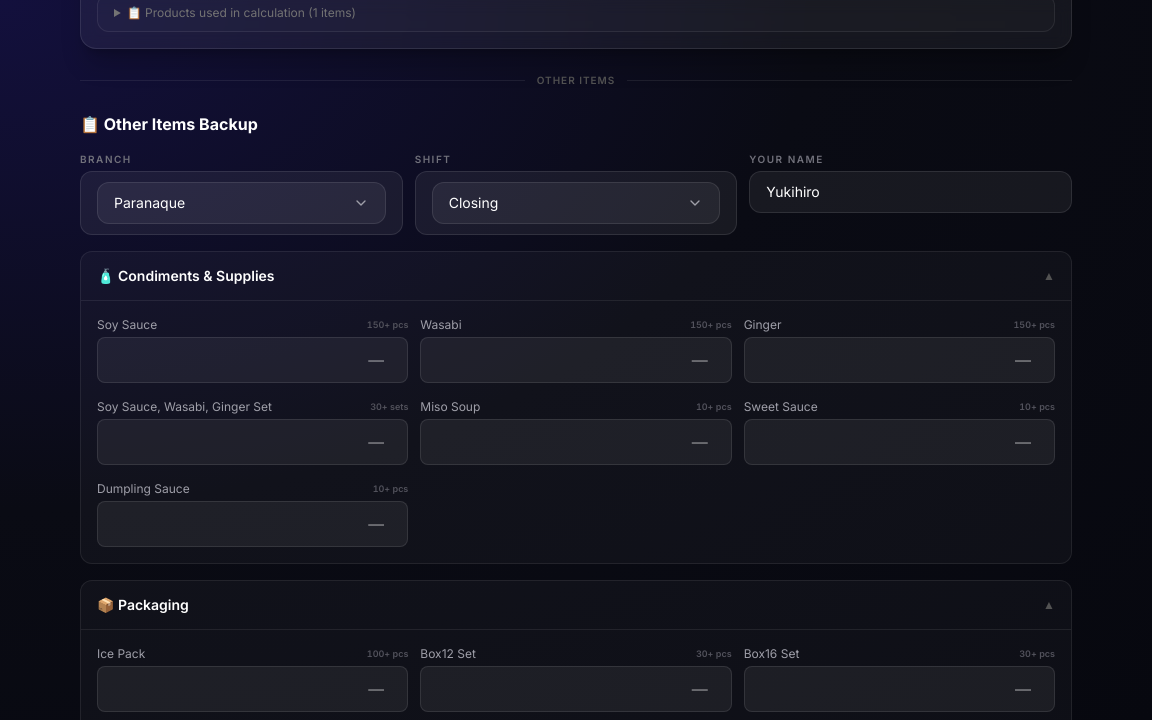
Test: OtherItemsBackupForm › Submit button becomes enabled after filling one item
(page scrolled)
Expected: the text "Soy Sauce" is shown, [97,317,157,332]
Type "200" into the 1st number field with placeholder "—". click: [253, 360]
box: [97,337,408,383]
(page scrolled)
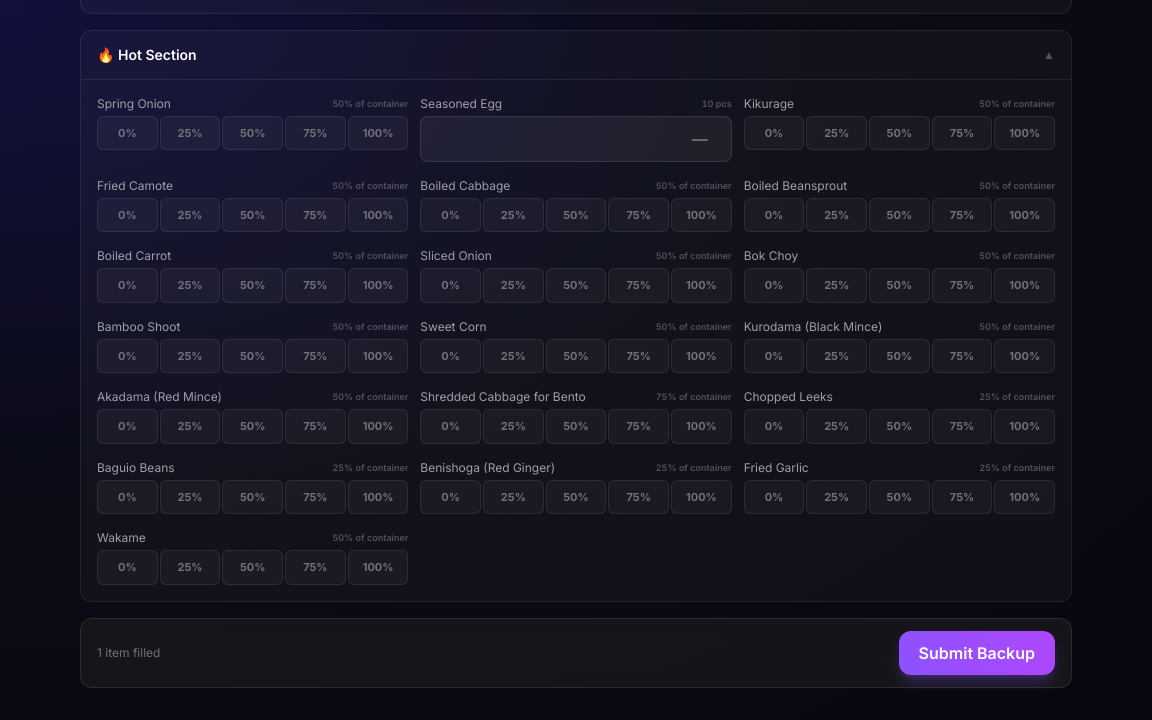
Expected: the button "Submit Backup" is enabled, [899,630,1055,674]
